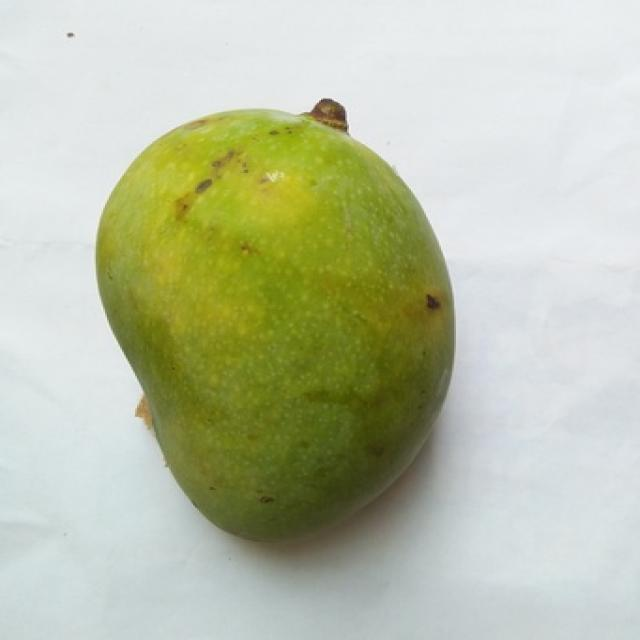Mango: (96, 103, 452, 540)
